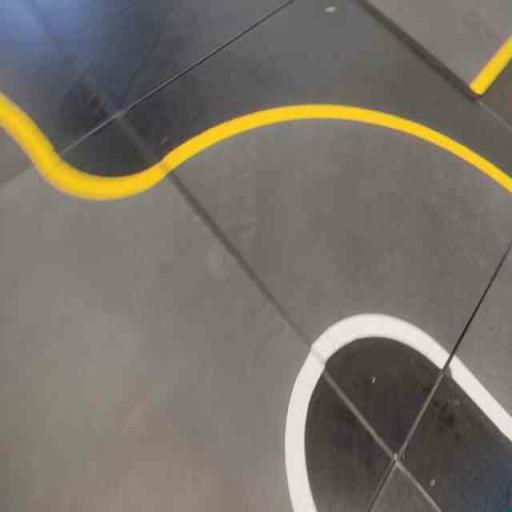right: (146, 14, 511, 462)
